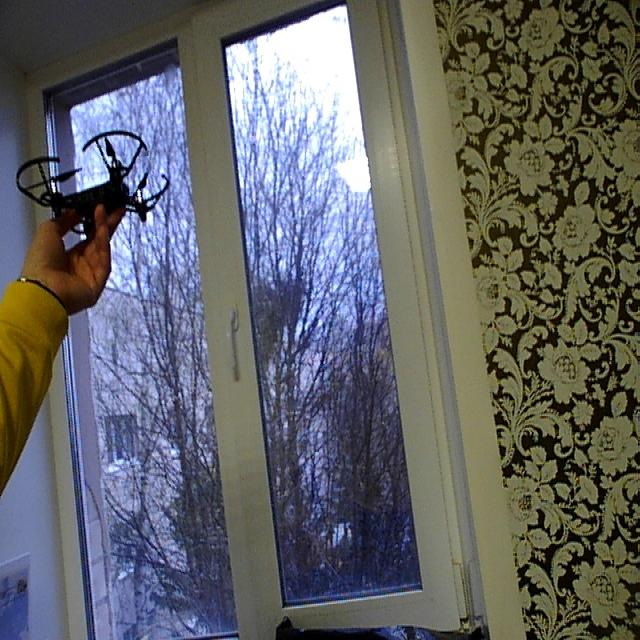drone: (13, 121, 175, 242)
